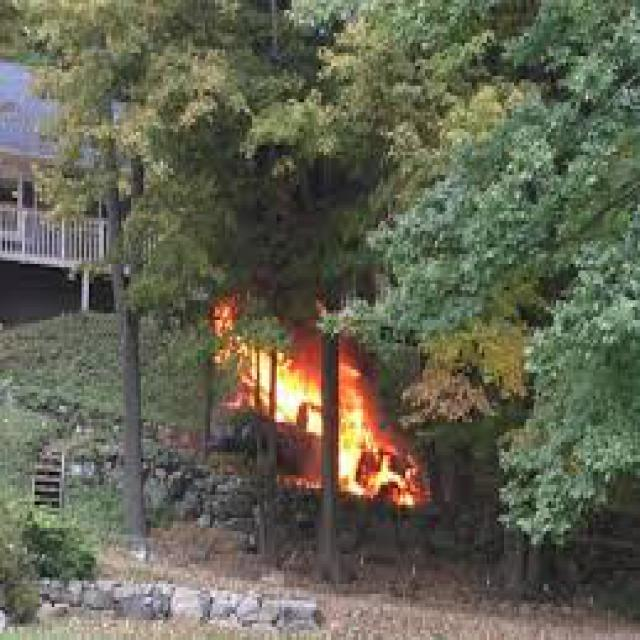fire: (206, 291, 438, 529)
